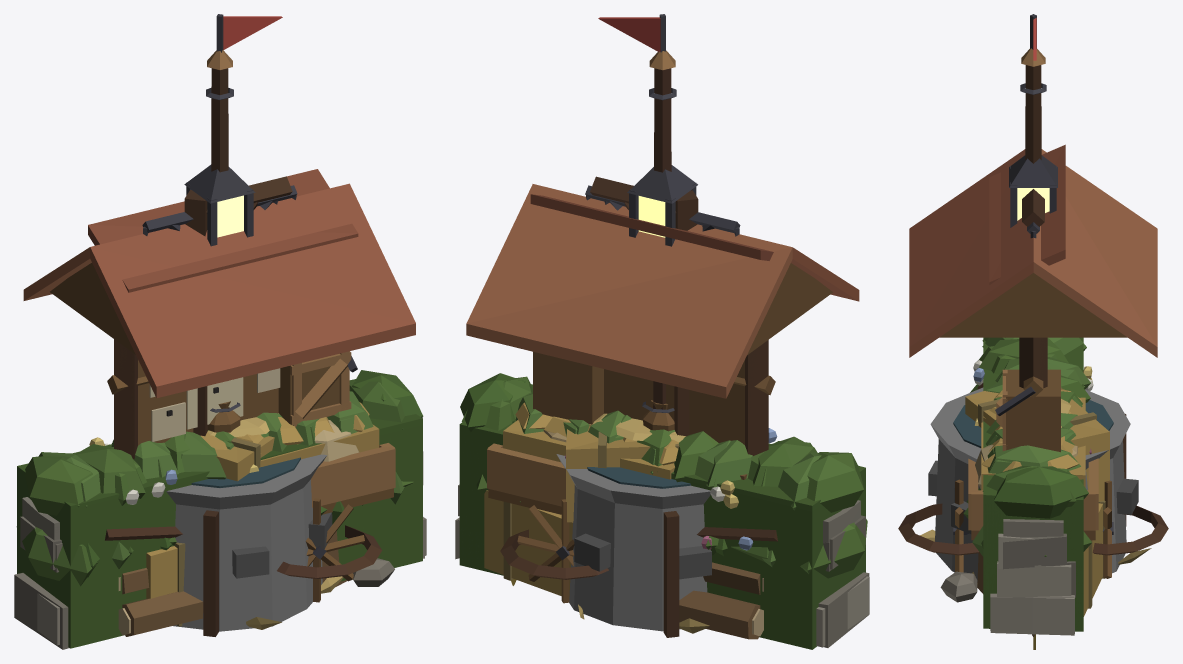
The model's file is town_clutter.glb.
3 views of the same model, side by side, from view 1: azimuth 30°, elevation 25°; view 2: azimuth 150°, elevation 25°; view 3: azimuth 270°, elevation 25° (orthographic). The views are drawn at different scales.
Parts seen in each view (by area): view 1: town_well_a, town_hedge_a, town_hedge_b, town_notice_board_a, town_handcart_a, town_handcart_b, town_woodpile_a, town_hay_bales_b, town_garland_pole_a, town_street_lamp_a, town_stone_wall_b, town_street_lamp_c (+2 smaller); view 2: town_well_a, town_hedge_a, town_hedge_b, town_notice_board_a, town_handcart_a, town_hay_bales_b, town_handcart_b, town_woodpile_a, town_garland_pole_a, town_street_lamp_a, town_street_lamp_c, town_stone_wall_b (+2 smaller); view 3: town_well_a, town_hedge_b, town_handcart_a, town_stone_wall_b, town_hedge_a, town_handcart_b, town_notice_board_a, town_hay_bales_b, town_stone_wall_a, town_garland_pole_a, town_street_lamp_a, town_street_lamp_c (+1 smaller).
Part boxes in pixels (left/top/right/bottom): town_well_a: left=23, top=183, right=415, bottom=631; town_hedge_a: left=16, top=379, right=422, bottom=648; town_hedge_b: left=17, top=370, right=423, bottom=603; town_notice_board_a: left=88, top=169, right=358, bottom=458; town_handcart_a: left=105, top=420, right=395, bottom=602; town_handcart_b: left=200, top=351, right=379, bottom=467; town_woodpile_a: left=118, top=510, right=347, bottom=636; town_hay_bales_b: left=146, top=413, right=278, bottom=626; town_garland_pole_a: left=206, top=14, right=282, bottom=408; town_street_lamp_a: left=184, top=164, right=255, bottom=246; town_stone_wall_b: left=14, top=451, right=424, bottom=649; town_street_lamp_c: left=184, top=176, right=292, bottom=436; town_well_a: left=466, top=184, right=859, bottom=631; town_hedge_a: left=459, top=376, right=867, bottom=649; town_hedge_b: left=459, top=373, right=865, bottom=572; town_notice_board_a: left=530, top=194, right=773, bottom=455; town_handcart_a: left=487, top=430, right=777, bottom=603; town_hay_bales_b: left=484, top=413, right=685, bottom=596; town_handcart_b: left=503, top=352, right=678, bottom=479; town_woodpile_a: left=663, top=511, right=763, bottom=639; town_garland_pole_a: left=598, top=14, right=676, bottom=409; town_street_lamp_a: left=627, top=165, right=697, bottom=246; town_street_lamp_c: left=590, top=176, right=698, bottom=436; town_stone_wall_b: left=455, top=484, right=869, bottom=647; town_well_a: left=909, top=149, right=1157, bottom=581; town_hedge_b: left=966, top=337, right=1093, bottom=631; town_handcart_a: left=898, top=383, right=1168, bottom=578; town_stone_wall_b: left=940, top=519, right=1074, bottom=635; town_hedge_a: left=963, top=337, right=1086, bottom=631; town_handcart_b: left=981, top=369, right=1085, bottom=490; town_notice_board_a: left=989, top=144, right=1065, bottom=388; town_hay_bales_b: left=965, top=387, right=1109, bottom=616; town_stone_wall_a: left=990, top=526, right=1075, bottom=632; town_garland_pole_a: left=1020, top=14, right=1046, bottom=163; town_street_lamp_a: left=1009, top=155, right=1057, bottom=227; town_street_lamp_c: left=1022, top=189, right=1044, bottom=226.
Size of the model in its own units: 2.1 by 3.12 by 1.35.
